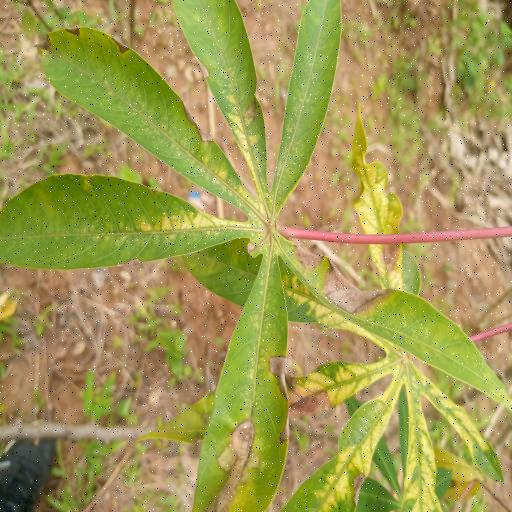Cassava_Brown_Leaf_Spot: (0, 0, 344, 512)
Cassava_Mosaic: (288, 113, 512, 510)
